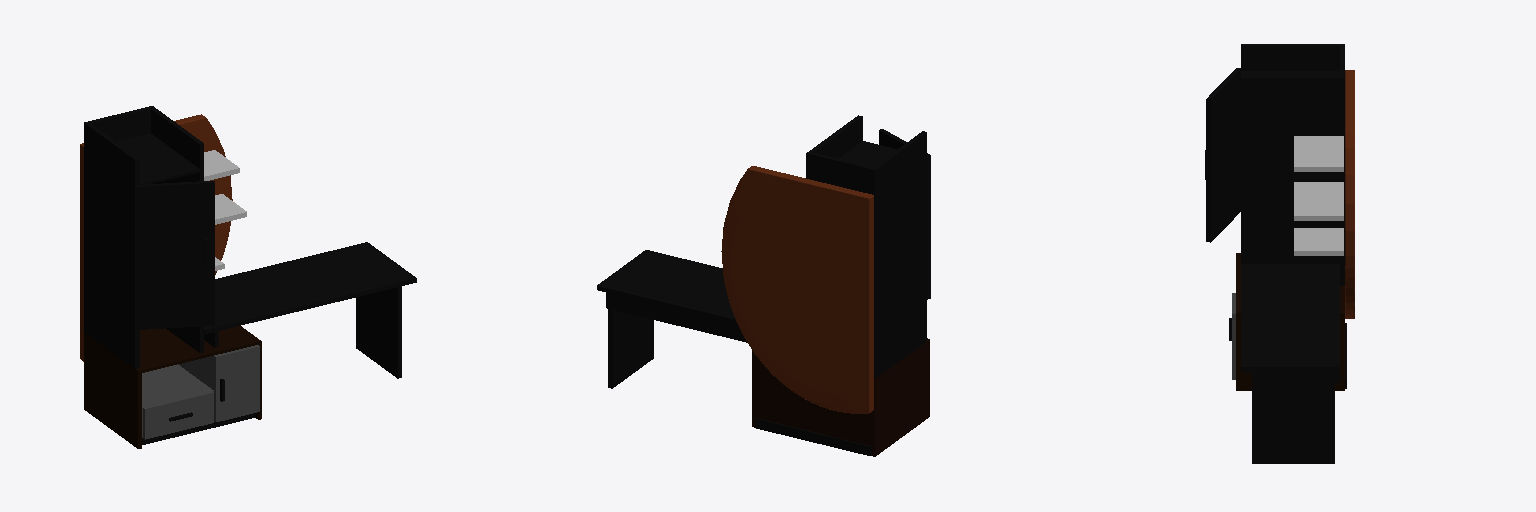
Rendered from desk11.obj.
3 renders of one model, left to right at view 1: azimuth 30°, elevation 25°; view 2: azimuth 150°, elevation 25°; view 3: azimuth 270°, elevation 25°, orthographic.
Visible parts, largest first — view 1: BasicDesk_ShelfDetailed, TopCabinet, Down_RightCabinet, Down_LeftCabinet; view 2: BasicDesk_ShelfDetailed, TopCabinet; view 3: BasicDesk_ShelfDetailed, TopCabinet.
Part boxes in pixels (x1,y1,x2,y2): BasicDesk_ShelfDetailed: (80,106,416,448); TopCabinet: (136,181,214,329); Down_RightCabinet: (214,345,259,421); Down_LeftCabinet: (143,391,213,439); BasicDesk_ShelfDetailed: (597,115,929,456); TopCabinet: (879,129,930,299); BasicDesk_ShelfDetailed: (1236,44,1354,463); TopCabinet: (1205,68,1240,242).
Bounding box in the file's own units: 4.18 × 4.06 × 1.92.